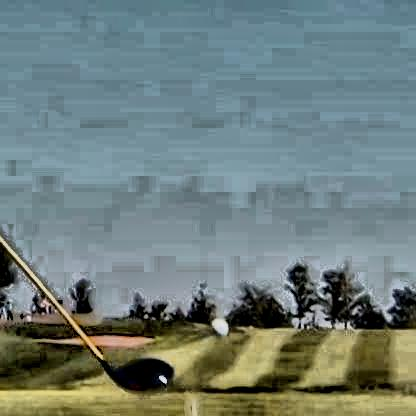golfball: (207, 315, 225, 335)
